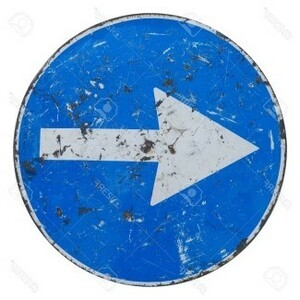trun_right: (13, 13, 289, 288)
